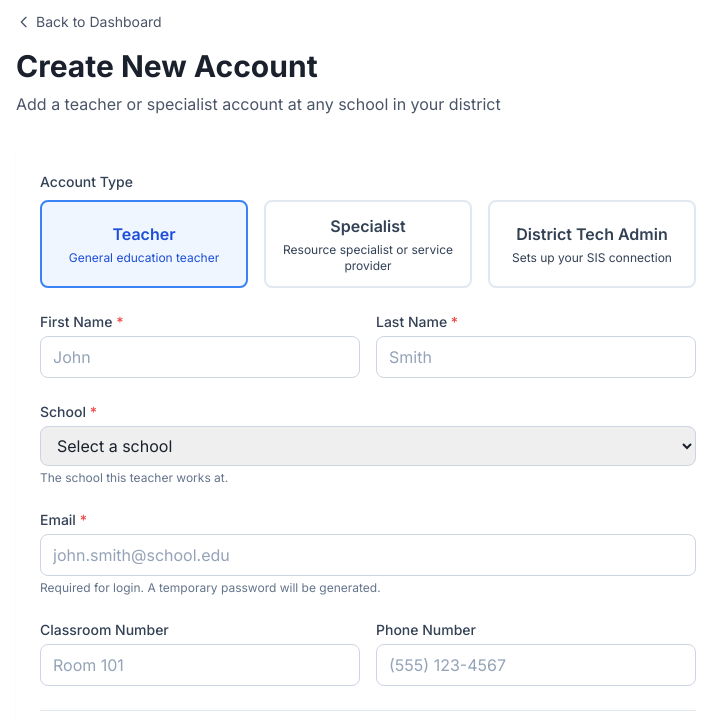
Test: Admin Create New Account page › ignores a duplicate-check response that a newer check superseded
Type "Jane" into the field labelled "First Name *".
click(200, 357); type("Jane")  # box 40,336 -> 360,378
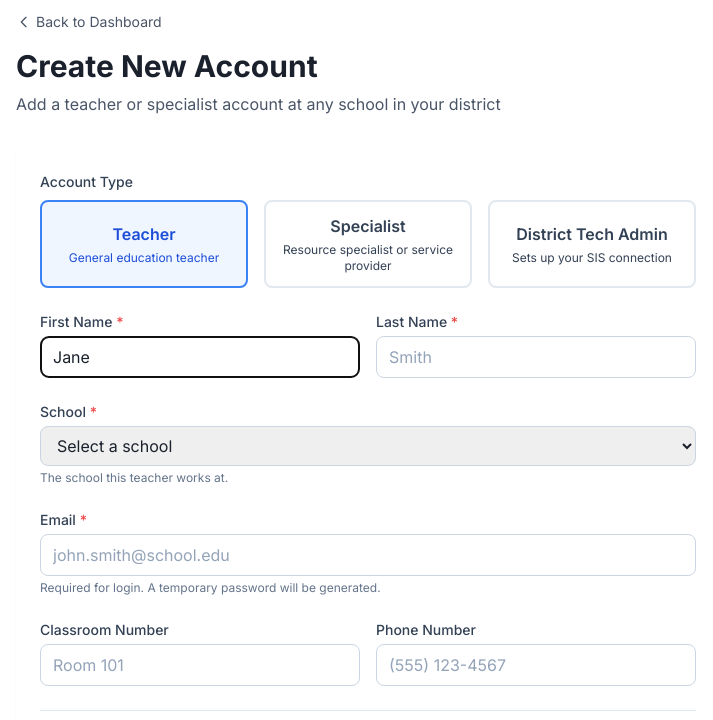
Type "Doe" into the field labelled "Last Name *".
click(536, 357); type("Doe")  # box 376,336 -> 696,378
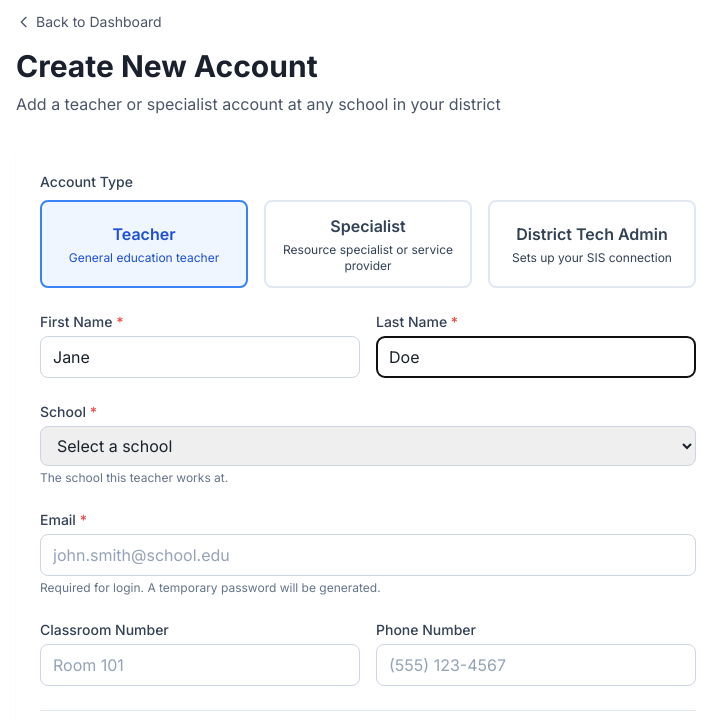
Select "Alpha Elementary" in the dropdown labelled "School *" at (368,446), box 40,426 -> 696,466
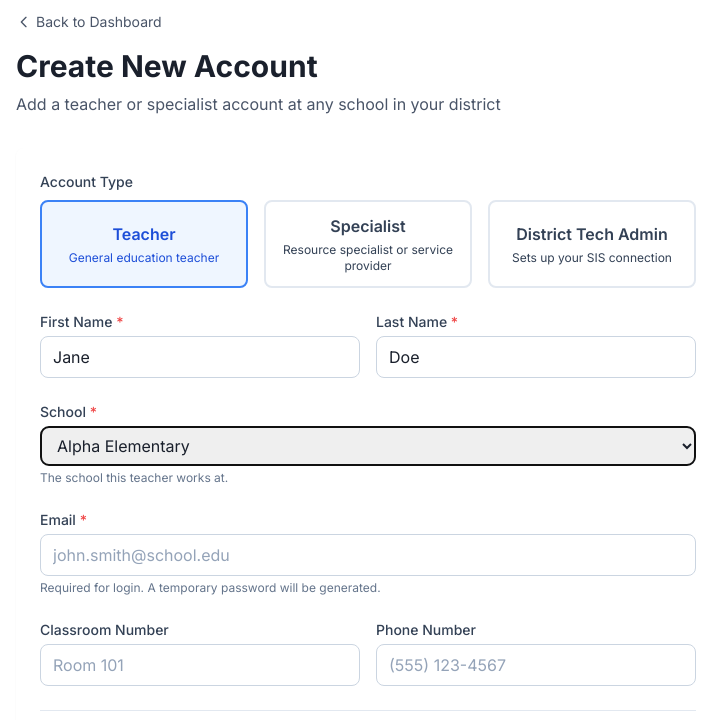
Select "Bravo Elementary" in the dropdown labelled "School *" at (368,446), box 40,426 -> 696,466
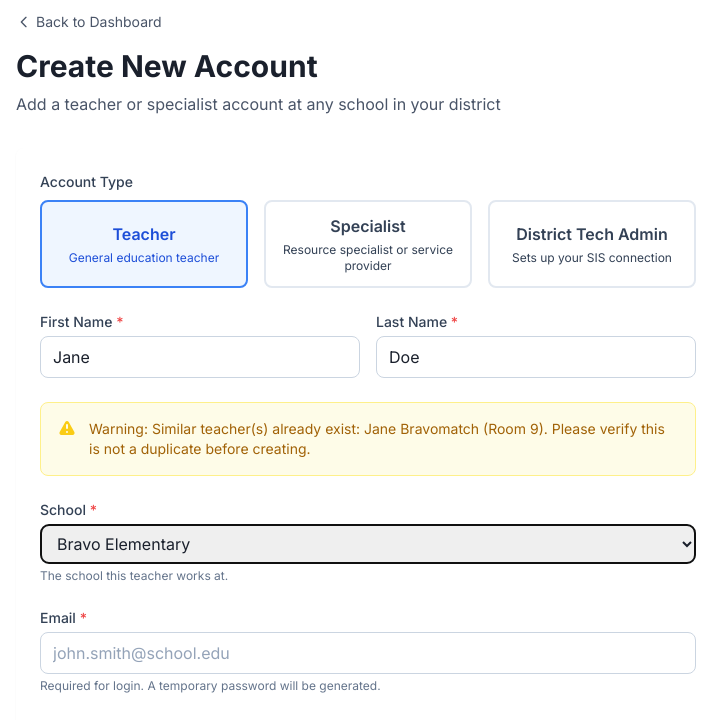
Result: the text "Bravomatch" is shown at 89,420 -> 665,457
